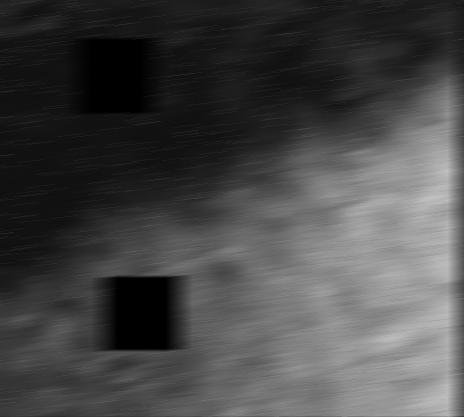Airbag: (0, 0, 464, 417), (458, 0, 464, 417)
